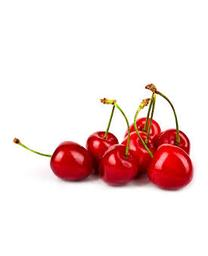cherry: (146, 143, 193, 190), (97, 145, 138, 187), (50, 141, 93, 181), (123, 132, 154, 170), (158, 127, 191, 159), (87, 131, 119, 163), (126, 116, 159, 145)
